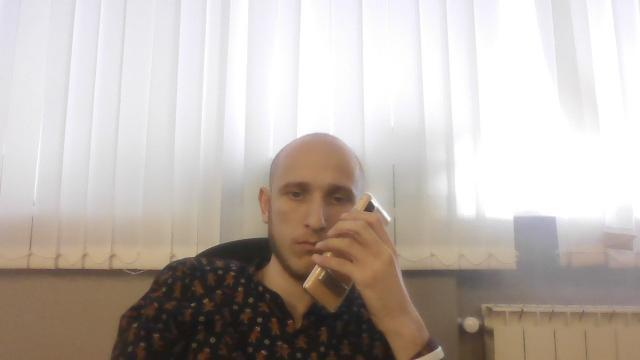PhoneUse: (299, 191, 393, 317)
SafeDriving: (323, 186, 355, 210), (279, 182, 312, 204)
